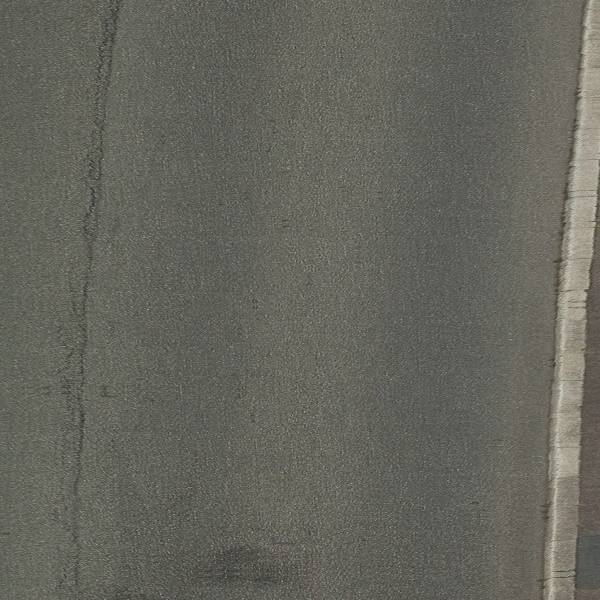road_damage: (68, 21, 118, 547)
